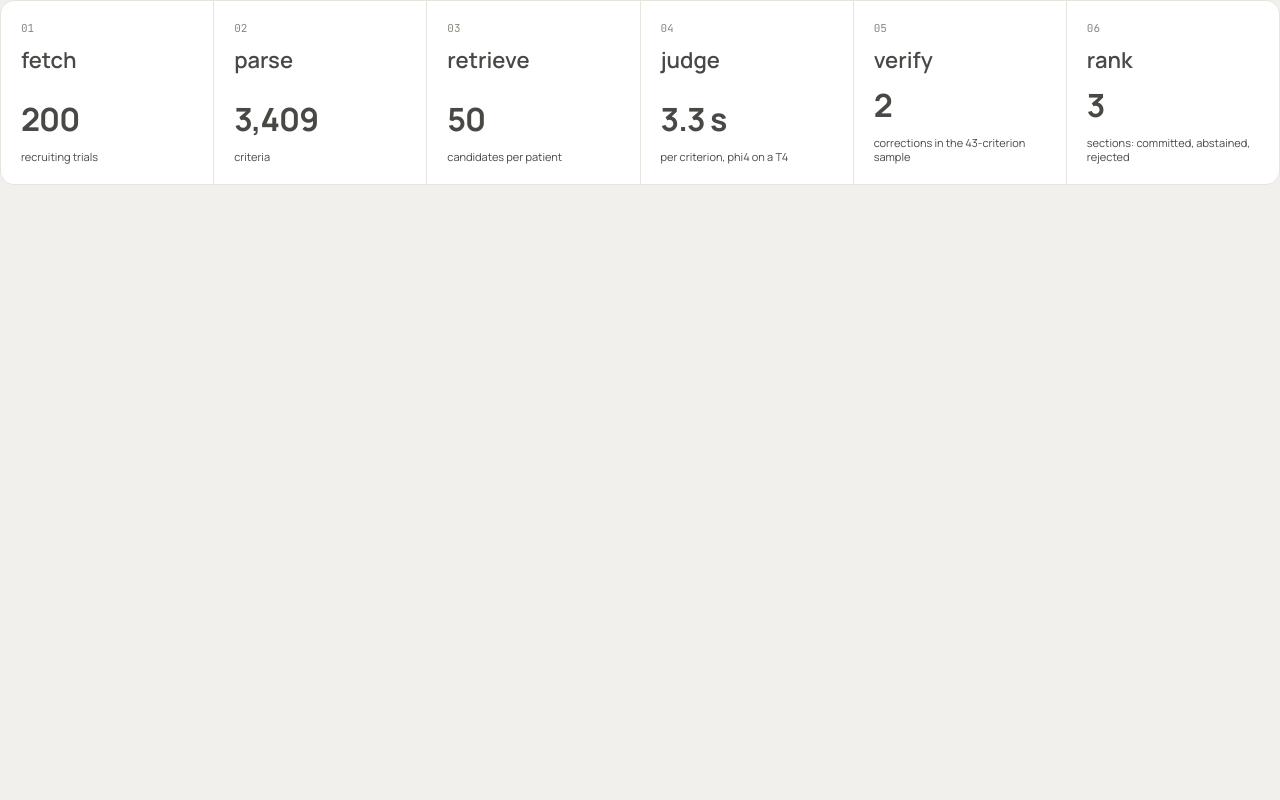
Test case: Pipeline › closes from the close button
Click the button "01 fetch 200 recruiting trials". click: (107, 93)
box: [1,1,213,184]
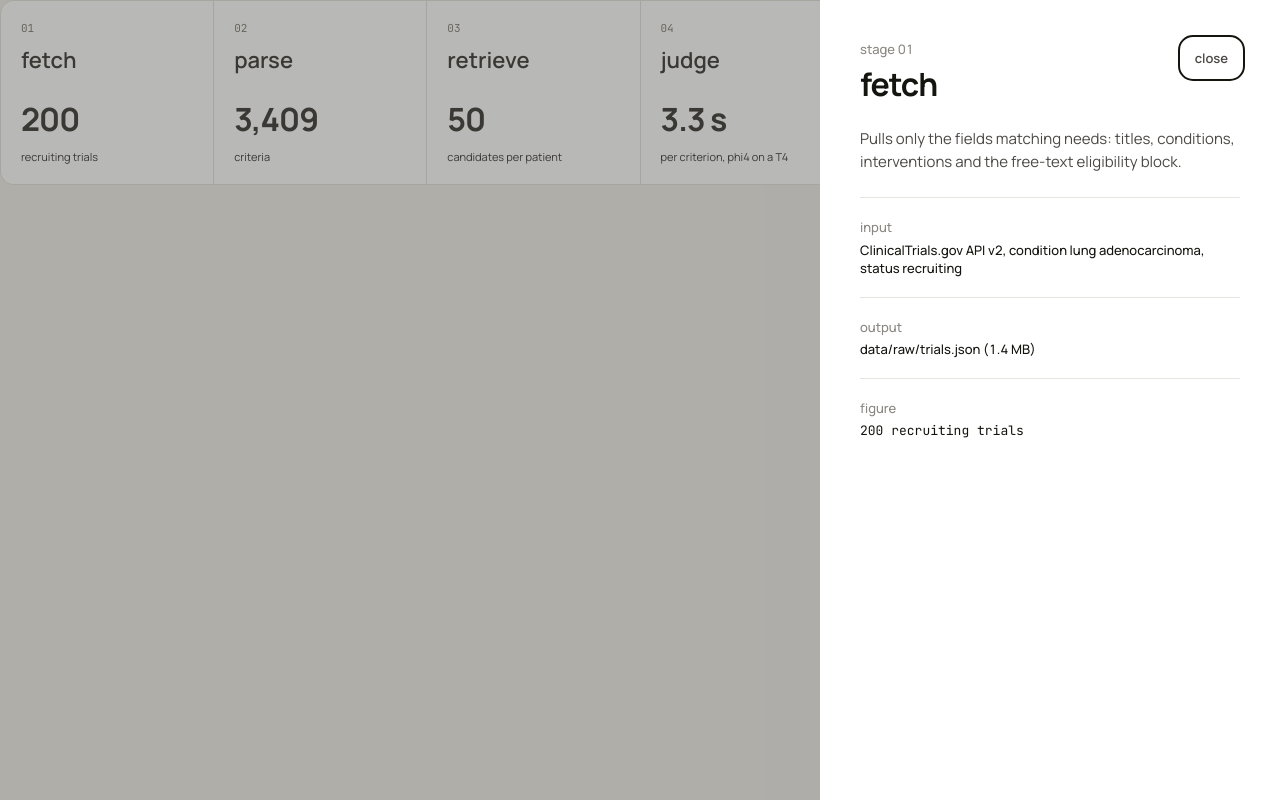
Click the button with aria-label "Close panel". click: (1211, 58)
box: [1183,40,1240,76]
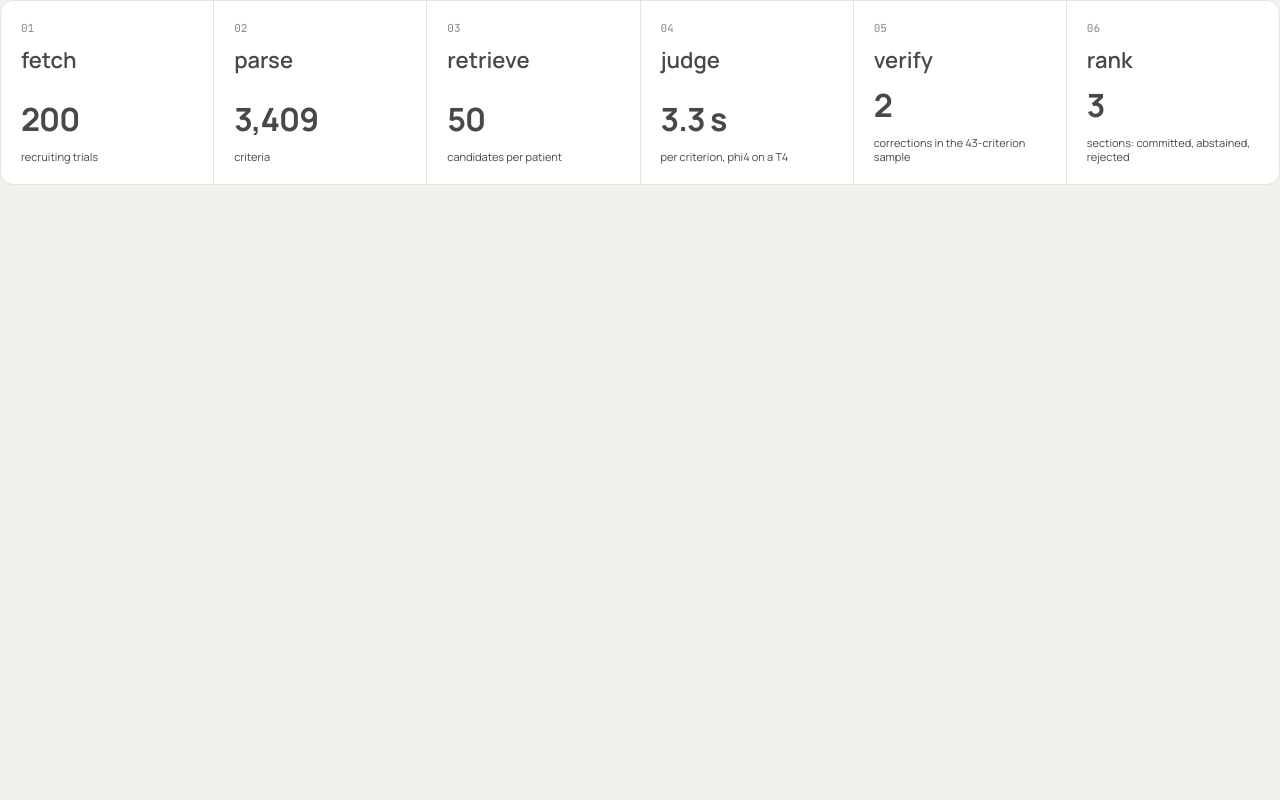
Check: the dialog is gone
